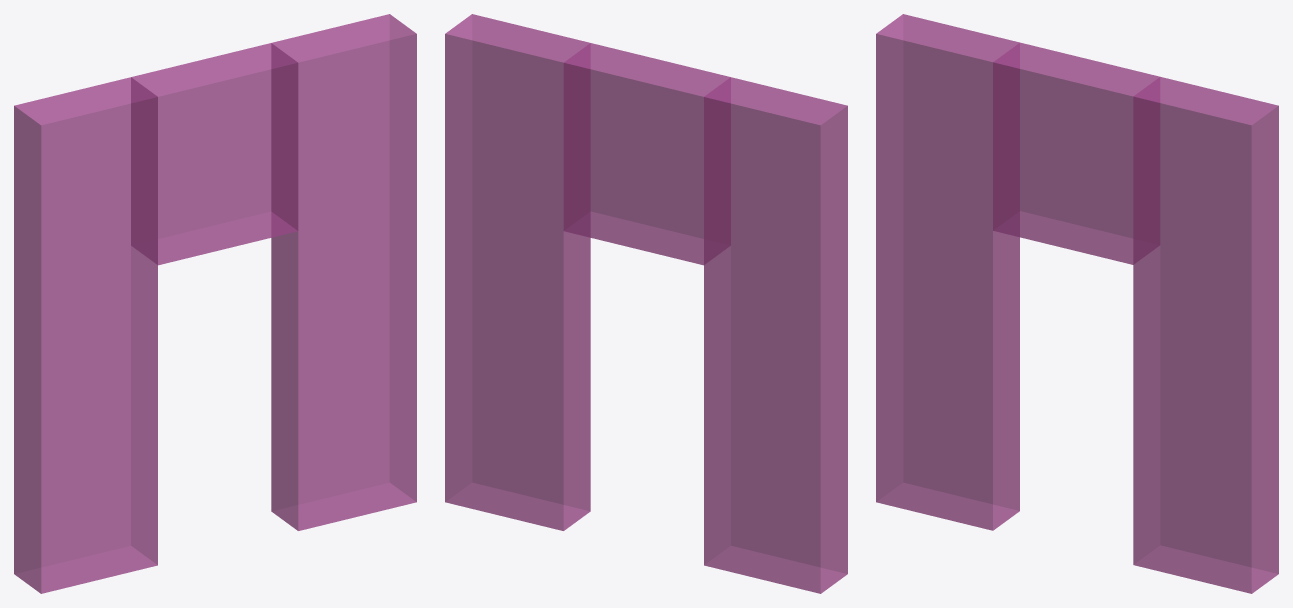
Rendered from SM_Bld_Base_Wall_Door_01_Collision.glb.
The picture shows the model from 3 angles, left to right: view 1: azimuth 30°, elevation 25°; view 2: azimuth 150°, elevation 25°; view 3: azimuth 330°, elevation 25°; orthographic projection.
Parts seen in each view (by area): view 1: SM_Bld_Base_Wall_Door_01_Collision; view 2: SM_Bld_Base_Wall_Door_01_Collision; view 3: SM_Bld_Base_Wall_Door_01_Collision.
Part boxes in pixels (left/top/right/bottom): SM_Bld_Base_Wall_Door_01_Collision: left=14, top=14, right=416, bottom=593; SM_Bld_Base_Wall_Door_01_Collision: left=445, top=14, right=847, bottom=593; SM_Bld_Base_Wall_Door_01_Collision: left=876, top=14, right=1278, bottom=593.
Size of the model in its own units: 2.53 by 3.02 by 0.3156.
